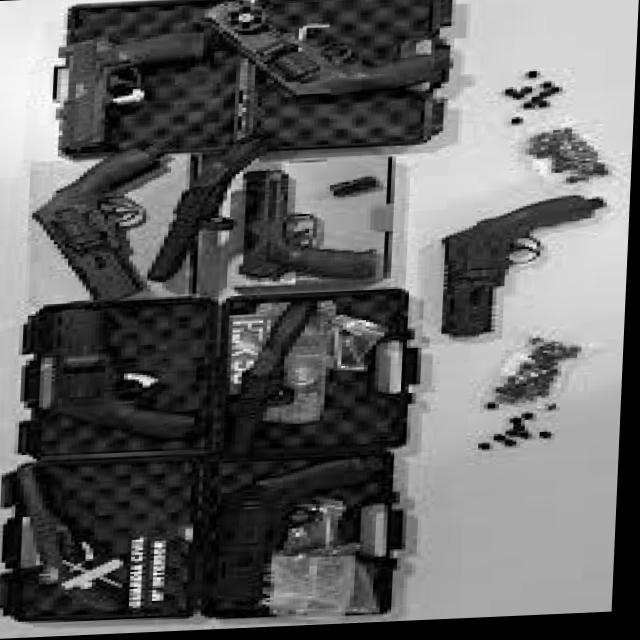handgun: (201, 0, 462, 123), (210, 459, 375, 612), (444, 198, 609, 341), (46, 300, 204, 448), (27, 150, 159, 304), (238, 168, 396, 289), (56, 30, 205, 157), (147, 138, 272, 288), (15, 459, 136, 612), (223, 300, 321, 461)
